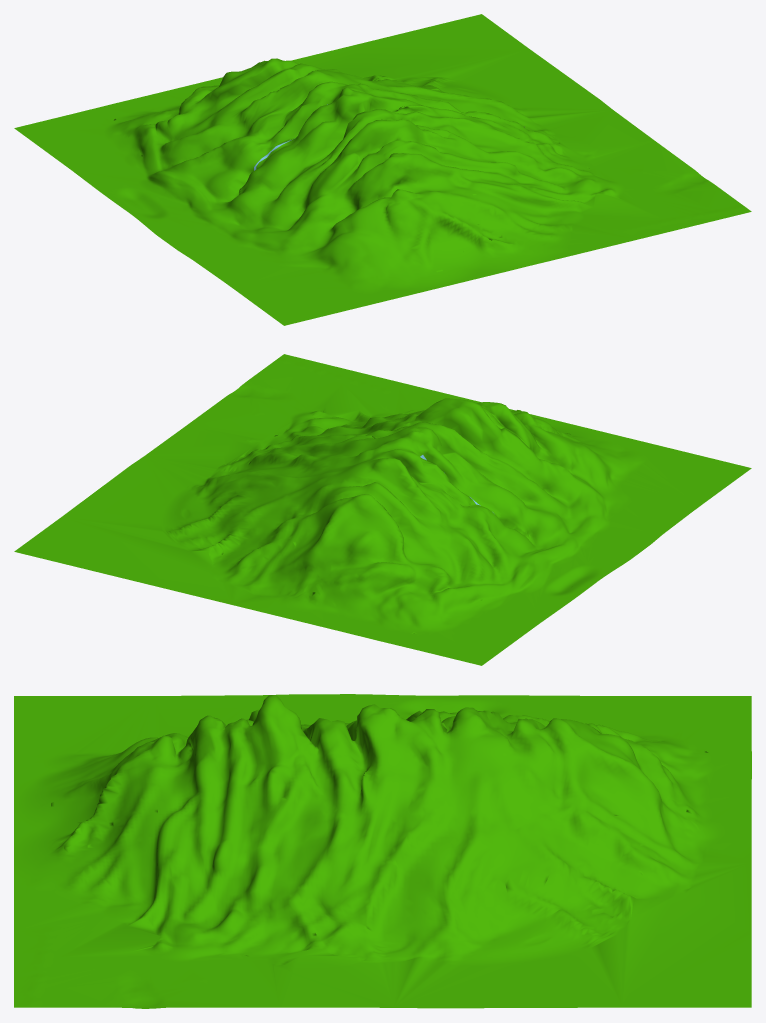
3 renders of one model, top to bottom at view 1: azimuth 30°, elevation 25°; view 2: azimuth 150°, elevation 25°; view 3: azimuth 270°, elevation 25°, orthographic. The views are drawn at different scales.
Visible parts, largest first — view 1: Plane002; view 2: Plane002; view 3: Plane002.
Part boxes in pixels (box(x1,y1,x2,y2)): Plane002: box(14, 14, 751, 325); Plane002: box(14, 354, 751, 665); Plane002: box(14, 694, 751, 1008).
Size of the model in its own units: 605 by 114 by 600.
